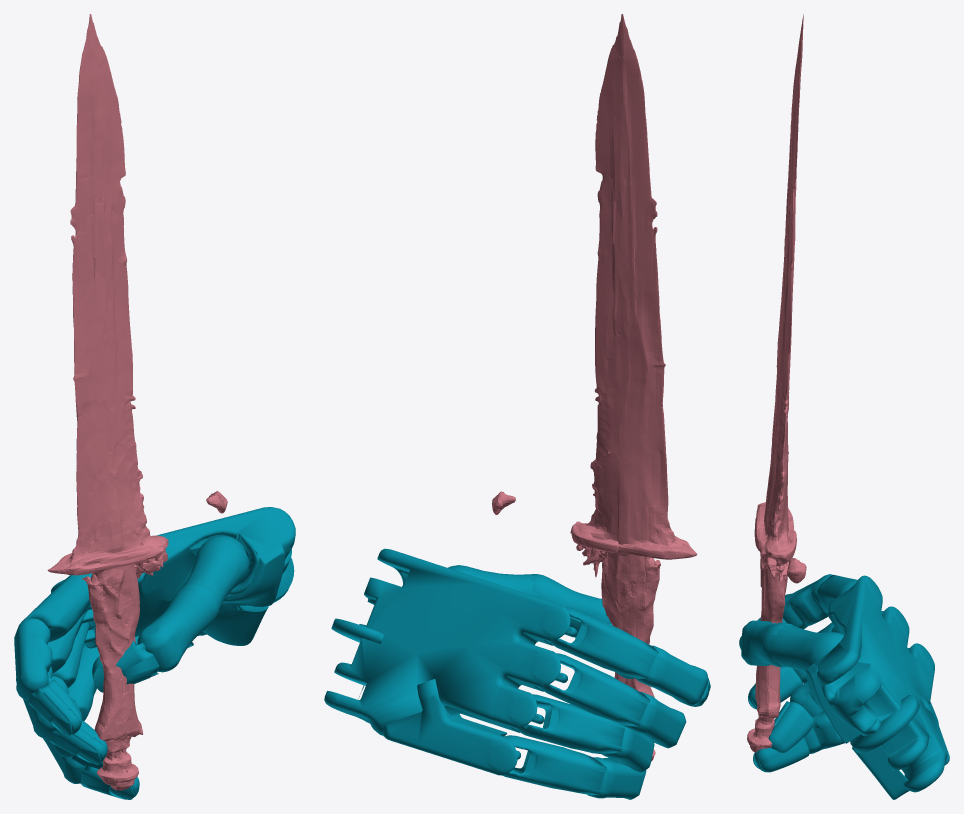
3 renders of one model, left to right at view 1: azimuth 30°, elevation 25°; view 2: azimuth 150°, elevation 25°; view 3: azimuth 270°, elevation 25°, orthographic. The views are drawn at different scales.
Visible parts, largest first — view 1: world; view 2: world; view 3: world.
Boxes of the visible parts, x1=… form: world: x1=14, y1=14, x2=295, y2=799; world: x1=324, y1=14, x2=710, y2=799; world: x1=739, y1=14, x2=949, y2=799.
Size of the model in its own units: 0.1745 by 0.4081 by 0.1041.
